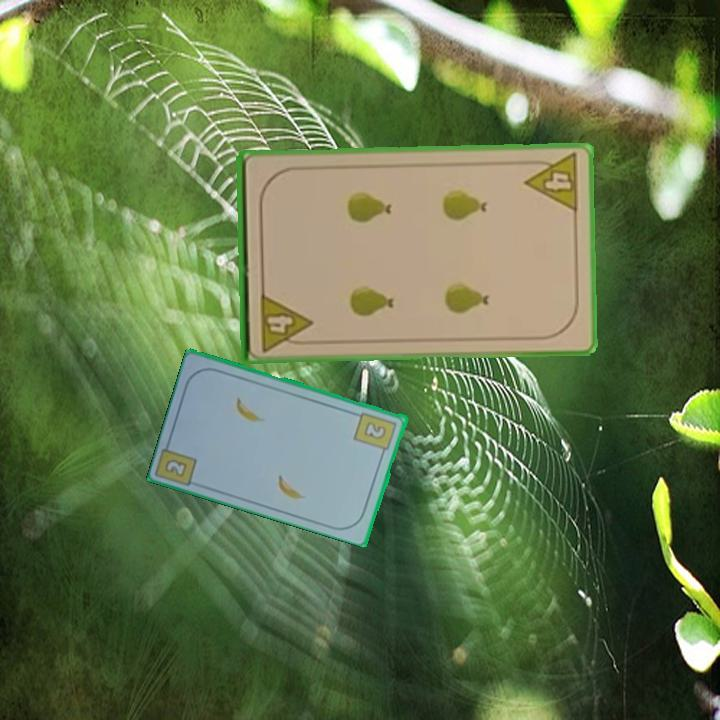2b: (351, 408, 400, 458), (162, 455, 190, 480)
4p: (521, 150, 582, 215), (256, 289, 315, 354)
